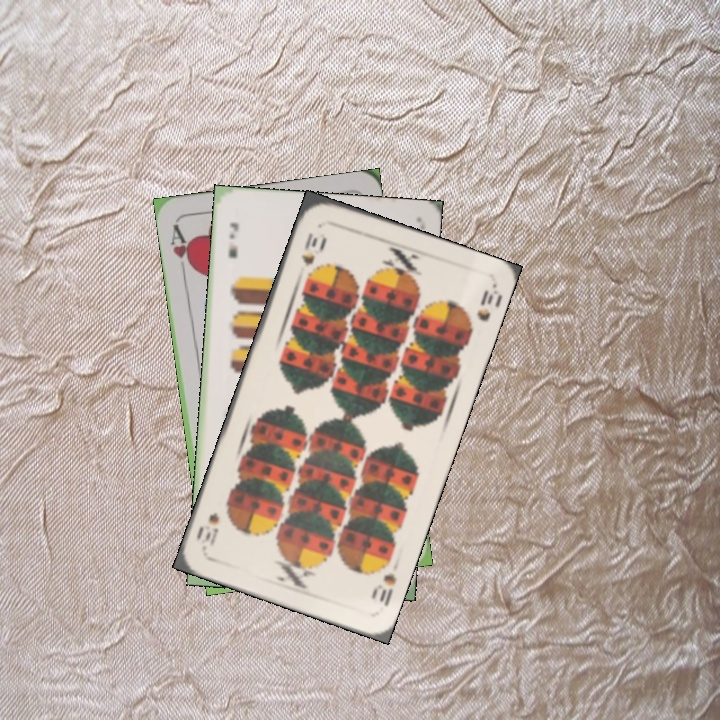E7: (225, 218, 241, 262)
HA: (167, 220, 197, 279)
S10: (367, 569, 399, 609), (297, 228, 327, 268)
